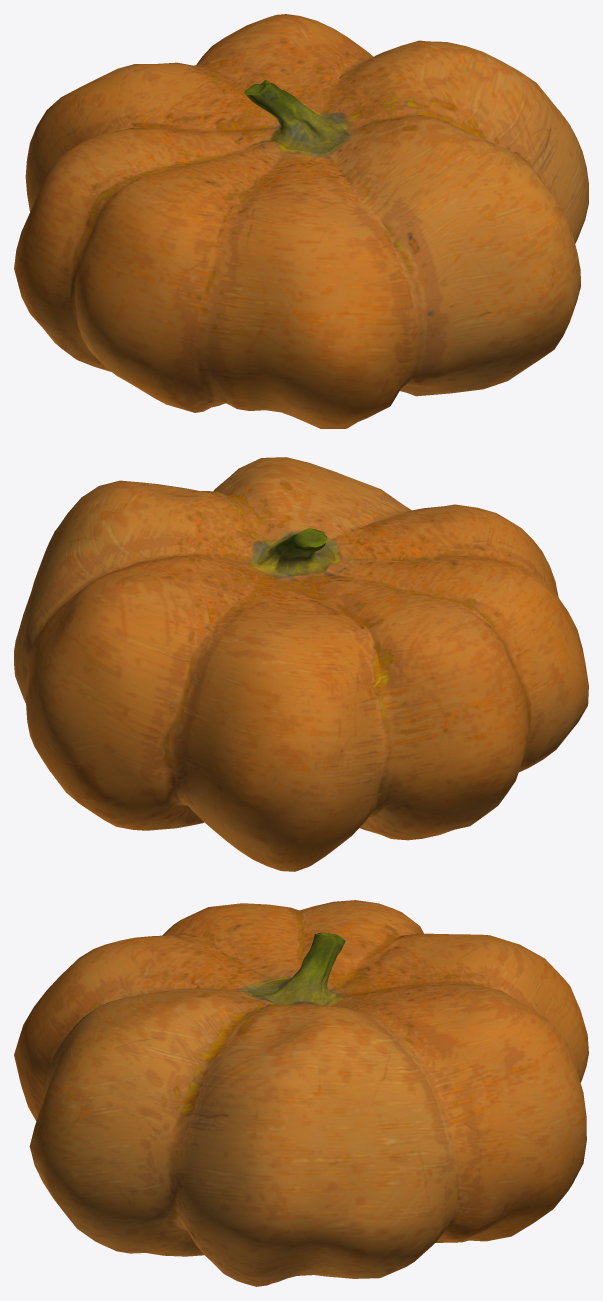
File: pumpkin.glb
3 renders of one model, top to bottom at view 1: azimuth 30°, elevation 25°; view 2: azimuth 150°, elevation 25°; view 3: azimuth 270°, elevation 25°, orthographic.
Visible parts, largest first — view 1: Pumpkin_02; view 2: Pumpkin_02; view 3: Pumpkin_02.
Part boxes in pixels (x1,y1,x2,y2): Pumpkin_02: (14,14,588,428); Pumpkin_02: (14,457,588,871); Pumpkin_02: (14,900,588,1286).
Size of the model in its own units: 0.7993 by 0.4 by 0.7734.
Materials: 1 (1 with a texture image).
